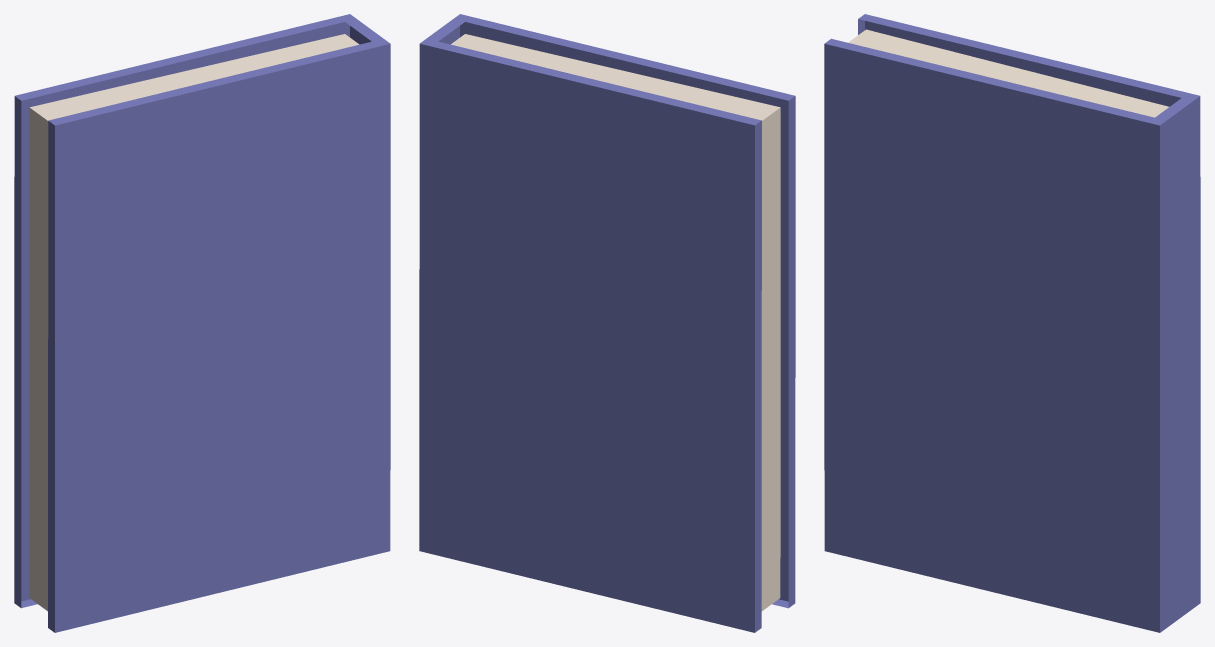
The model's file is Book_3.fbx.
3 renders of one model, left to right at view 1: azimuth 30°, elevation 25°; view 2: azimuth 150°, elevation 25°; view 3: azimuth 330°, elevation 25°, orthographic.
Parts seen in each view (by area): view 1: Book_3.005; view 2: Book_3.005; view 3: Book_3.005.
Part boxes in pixels (x1,y1,x2,y2): Book_3.005: [14, 14, 390, 632]; Book_3.005: [419, 14, 795, 632]; Book_3.005: [824, 14, 1200, 632].
Size of the model in its own units: 0.2089 by 0.3019 by 0.0439.
